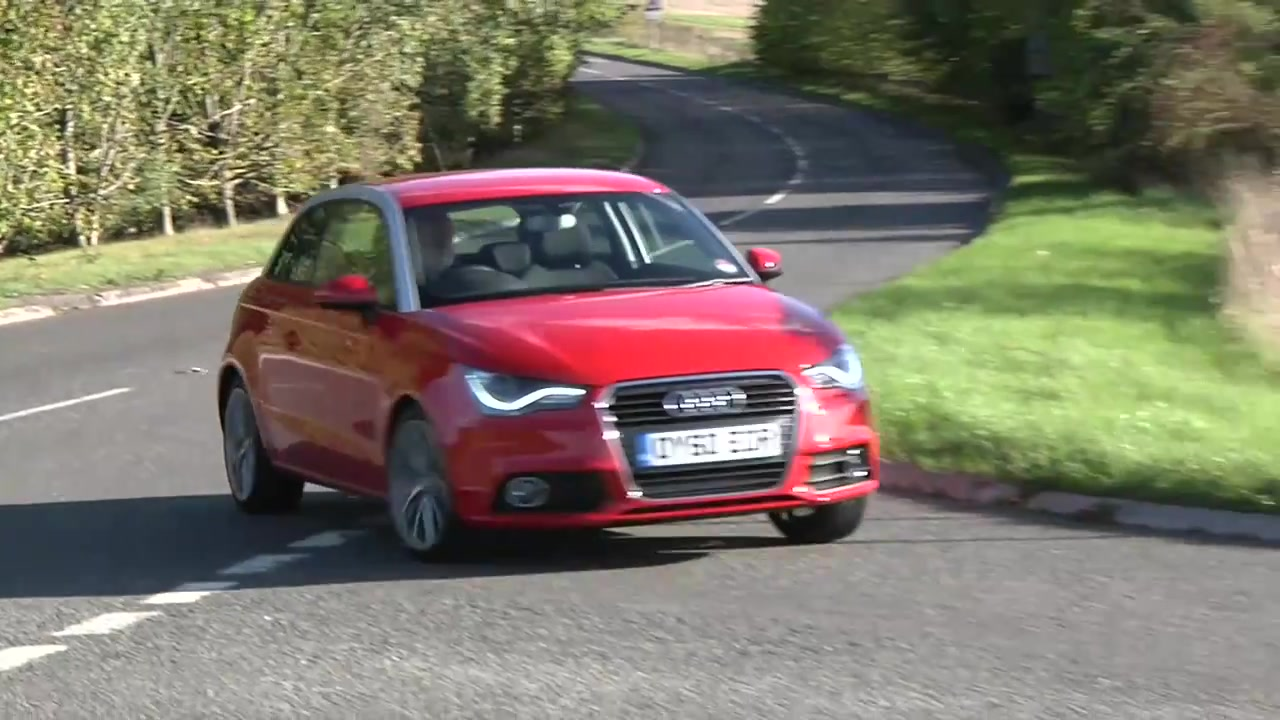car: (216, 163, 885, 559)
